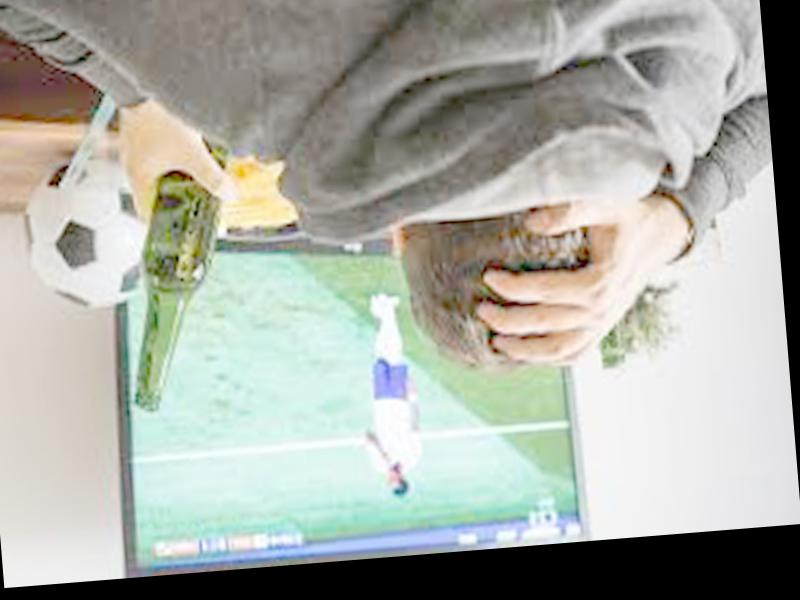Beer: (113, 129, 240, 412)
